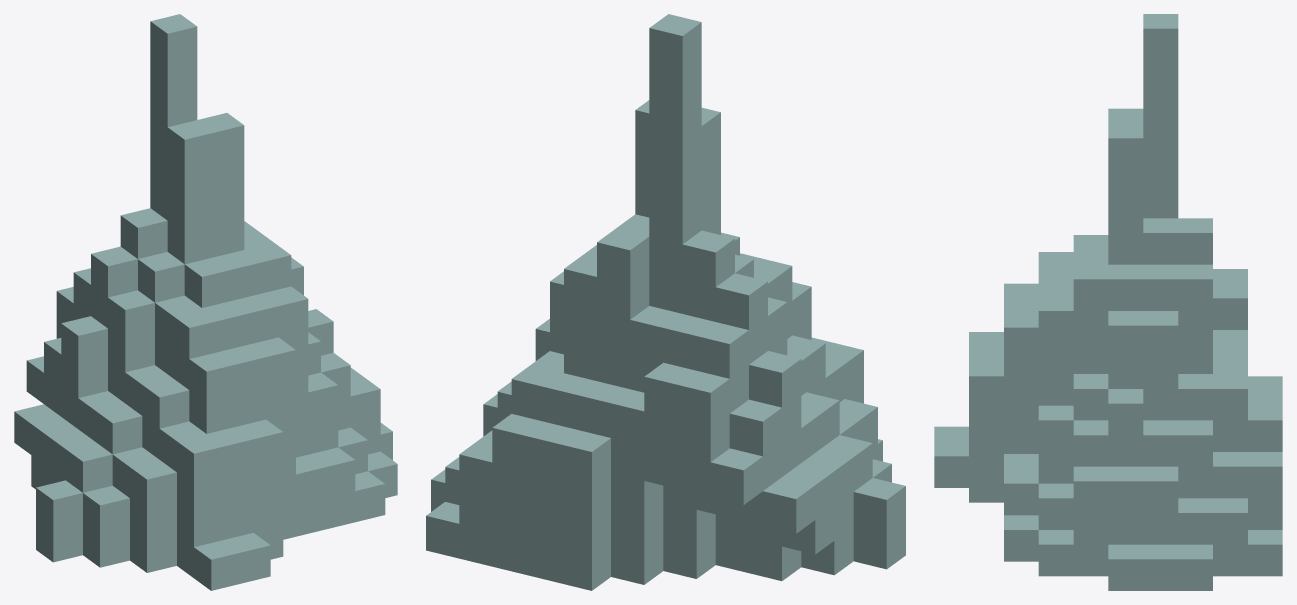
Rendered from Pointyrock3.obj.
The picture shows the model from 3 angles, left to right: view 1: azimuth 30°, elevation 25°; view 2: azimuth 150°, elevation 25°; view 3: azimuth 270°, elevation 25°; orthographic projection. The views are drawn at different scales.
Visible parts, largest first — view 1: Pointyrock3; view 2: Pointyrock3; view 3: Pointyrock3.
Boxes of the visible parts, left/top/right/bottom form: Pointyrock3: left=14, top=14, right=397, bottom=590; Pointyrock3: left=426, top=14, right=905, bottom=590; Pointyrock3: left=934, top=14, right=1282, bottom=590.
Bounding box in the file's own units: 12 × 15 × 10.
Materials: 1 (1 with a texture image).
